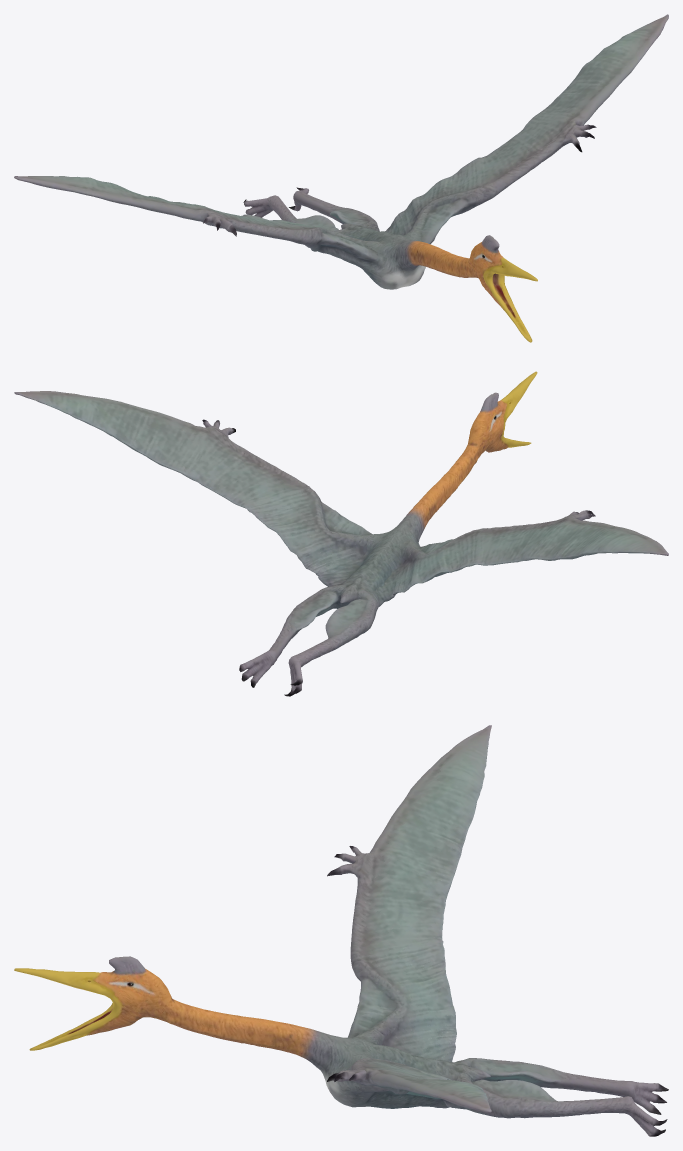
Rendered from MZ4250 - Quezalcoatlus.glb.
The picture shows the model from 3 angles, top to bottom: view 1: azimuth 30°, elevation 25°; view 2: azimuth 150°, elevation 25°; view 3: azimuth 270°, elevation 25°; orthographic projection. The views are drawn at different scales.
Visible parts, largest first — view 1: Pteranodon_low.001; view 2: Pteranodon_low.001; view 3: Pteranodon_low.001.
Boxes of the visible parts, x1=… form: Pteranodon_low.001: x1=14, y1=14, x2=668, y2=342; Pteranodon_low.001: x1=14, y1=371, x2=668, y2=696; Pteranodon_low.001: x1=14, y1=725, x2=668, y2=1136.
Size of the model in its own units: 14.32 by 3.57 by 10.18.
Materials: 1 (1 with a texture image).
